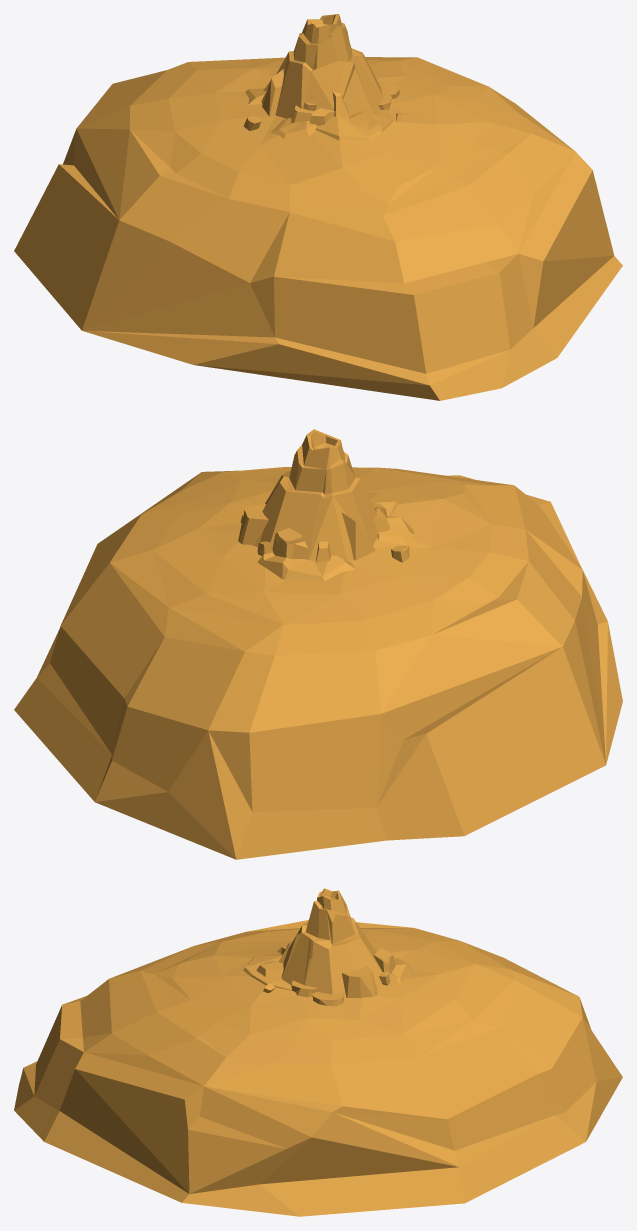
File: island-vulcano.fbx
The picture shows the model from 3 angles, top to bottom: view 1: azimuth 30°, elevation 25°; view 2: azimuth 150°, elevation 25°; view 3: azimuth 270°, elevation 25°; orthographic projection. The views are drawn at different scales.
Parts seen in each view (by area): view 1: island-vulcano; view 2: island-vulcano; view 3: island-vulcano.
Boxes of the visible parts, bbox=[...] form: island-vulcano: bbox=[14, 14, 622, 400]; island-vulcano: bbox=[14, 429, 622, 859]; island-vulcano: bbox=[14, 888, 622, 1216].
Bounding box in the file's own units: 168 × 81.57 × 202.
